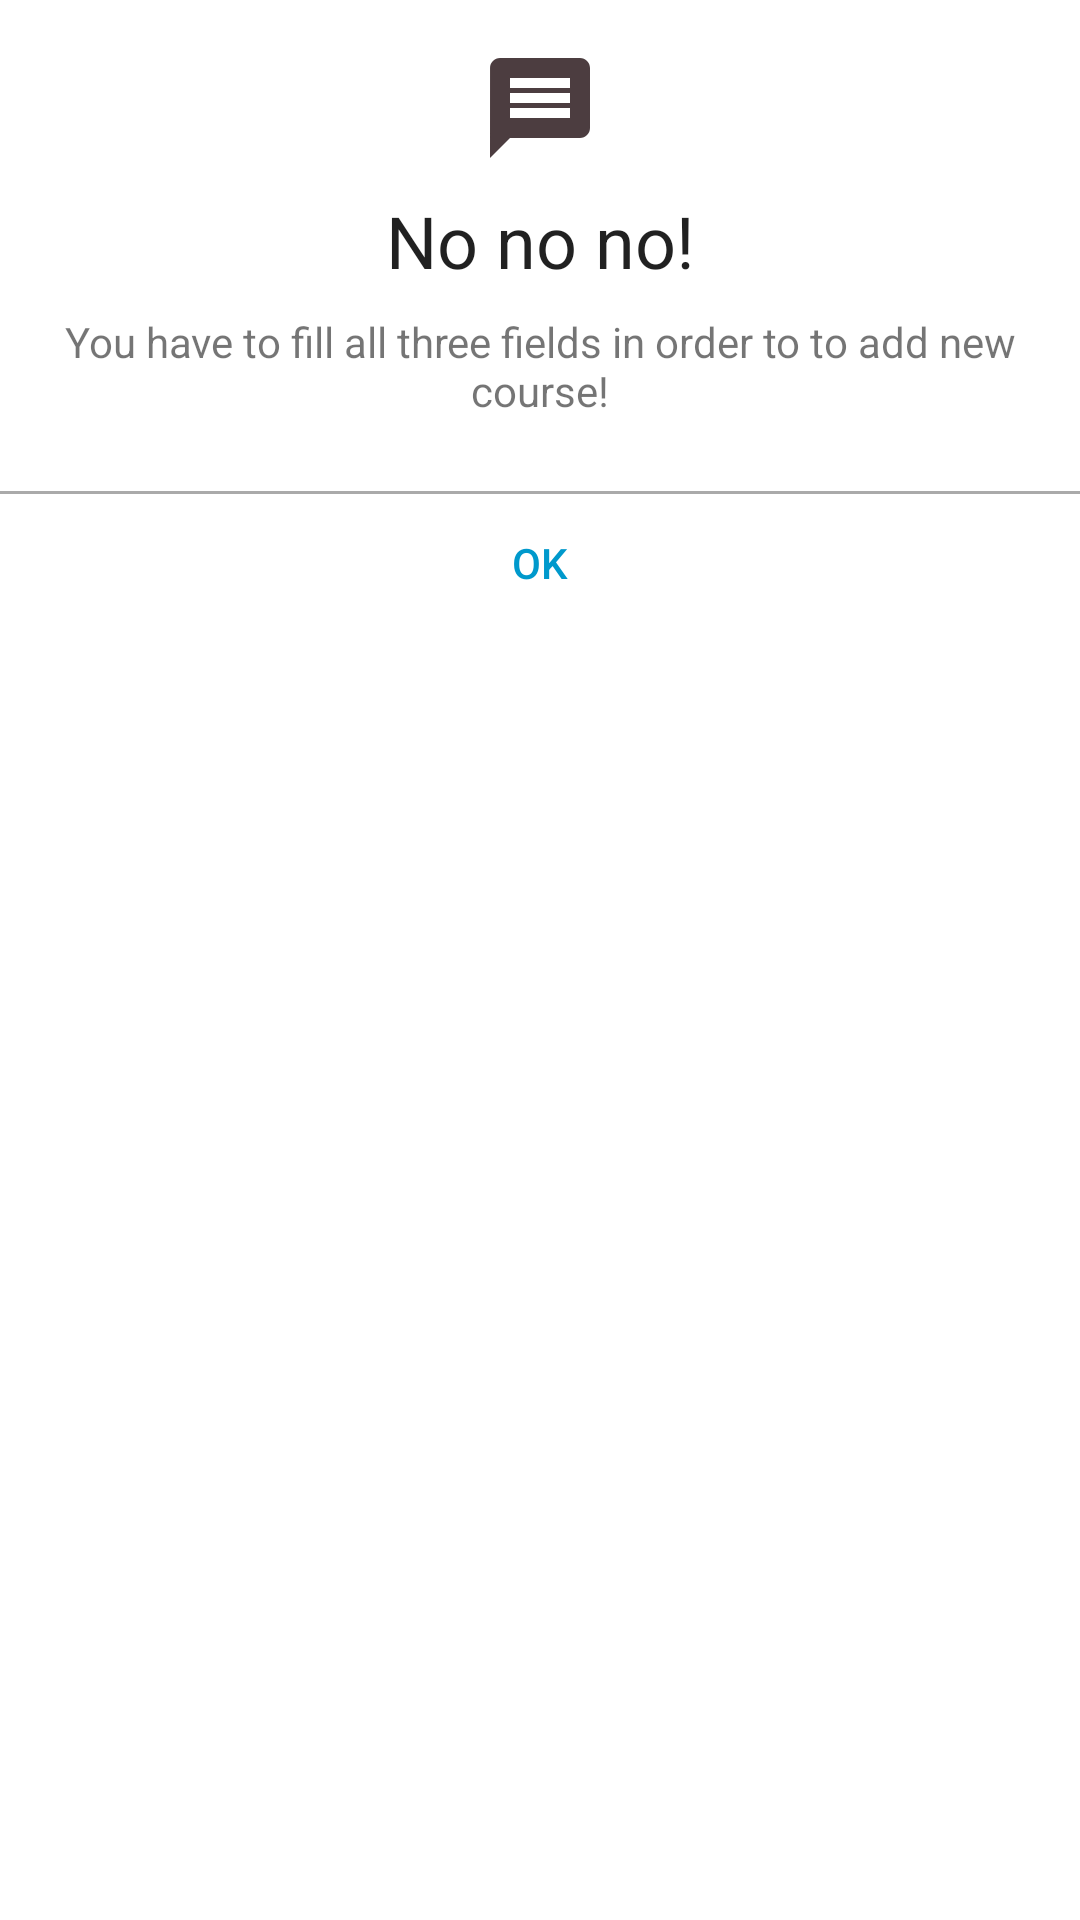

Icon click points for this 1080 x 1920 phone screenshot, format [x,y]:
message: [540,108]
